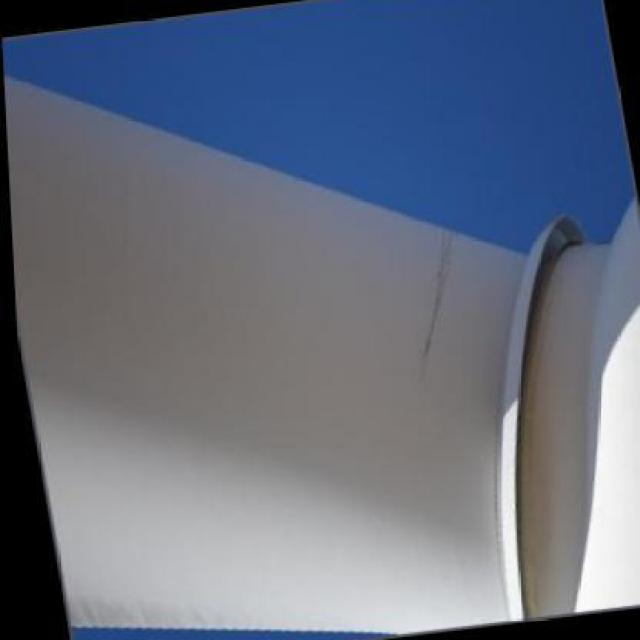Crack: (396, 226, 467, 354)
